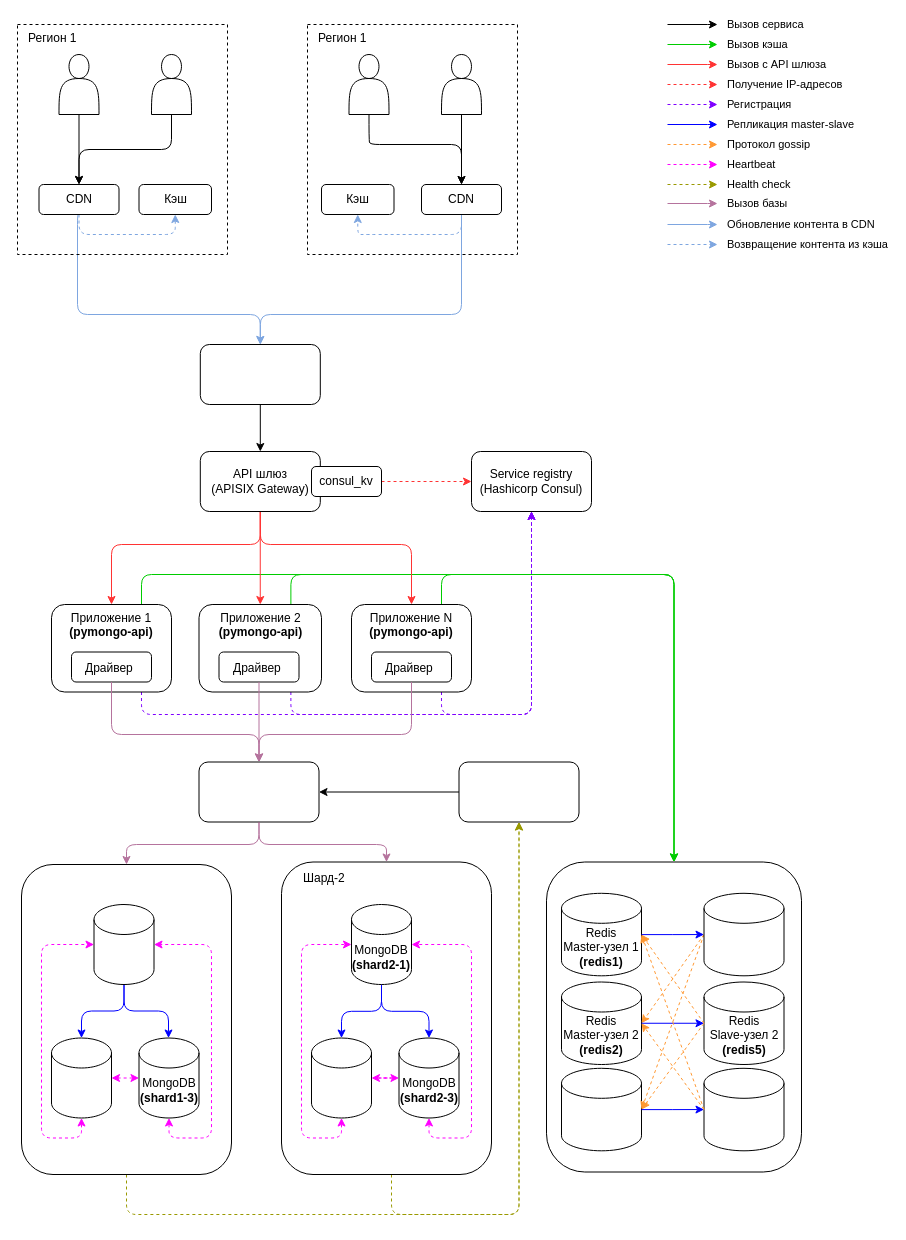
This 906x1240 diagram has some shape labels left out. Each missing label, with the box of its shape:
MongoDB (shard1-1): (93, 904, 154, 984)
MongoDB (shard1-2): (50, 1037, 112, 1118)
MongoDB (shard2-2): (310, 1037, 372, 1118)
Redis Master-узел 3 (redis3): (560, 1067, 642, 1151)
Redis Slave-узел 1 (redis4): (703, 892, 784, 976)
Redis Slave-узел 3 (redis6): (703, 1067, 784, 1151)
Кластер кэширования: (546, 861, 802, 1172)
Роутер ( mongos_router ): (198, 761, 319, 822)
Сайт React/Nginx: (199, 344, 320, 404)
Сервер конфигураций (configSrv): (458, 761, 579, 822)
Шард-1: (20, 864, 232, 1174)
